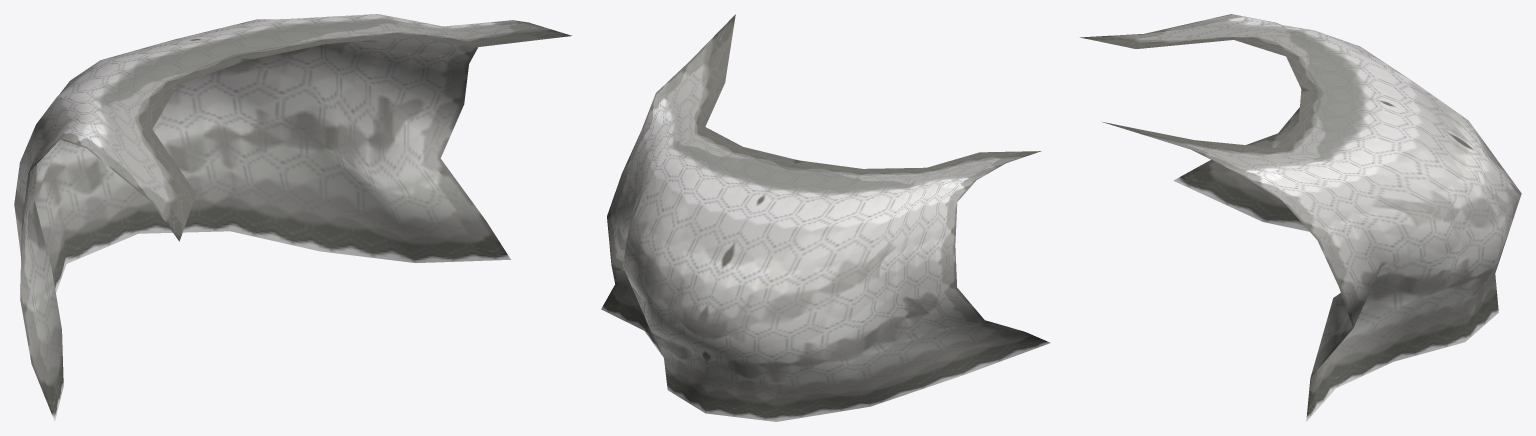
Rendered from Block_GuaWang.FBX.
3 renders of one model, left to right at view 1: azimuth 30°, elevation 25°; view 2: azimuth 150°, elevation 25°; view 3: azimuth 270°, elevation 25°, orthographic. The views are drawn at different scales.
Parts seen in each view (by area): view 1: Object002; view 2: Object002; view 3: Object002.
Boxes of the visible parts, x1,y1,x2,y2 form: Object002: (14,14,571,421); Object002: (601,14,1050,421); Object002: (1080,14,1521,421).
Bounding box in the file's own units: 583 × 342 × 498.
